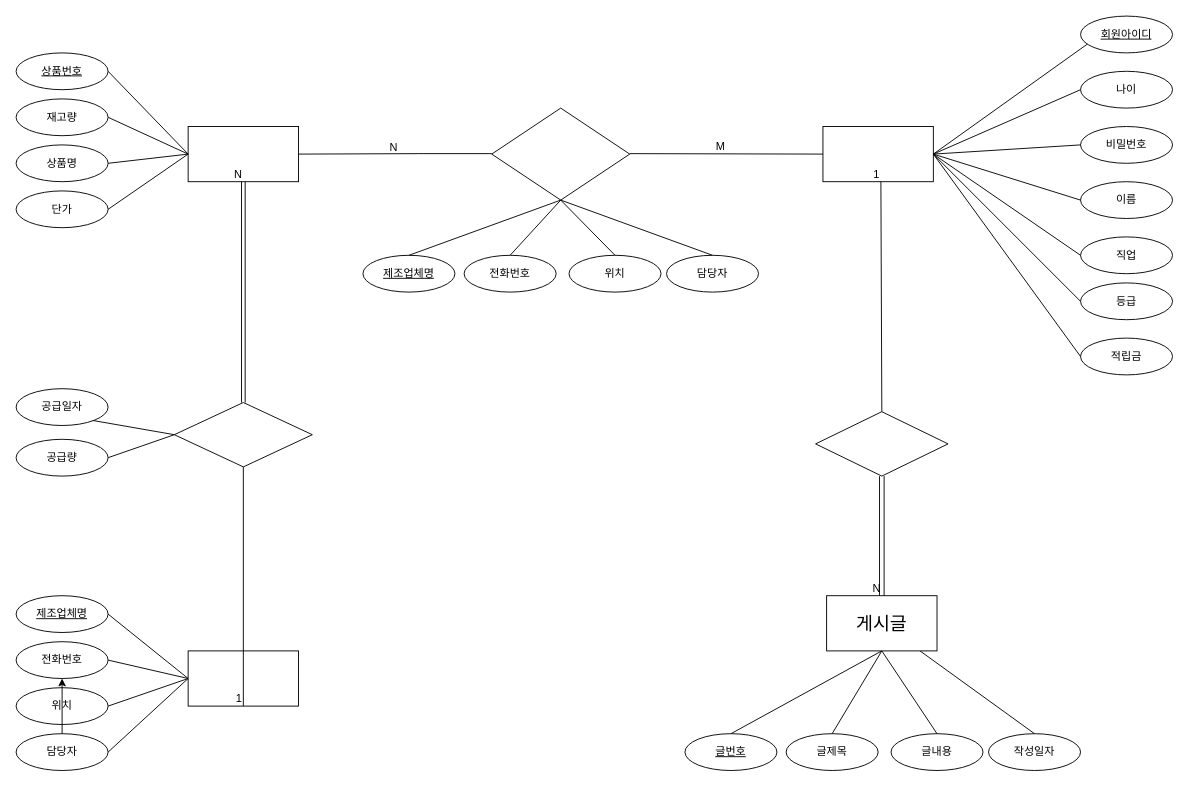
Image size: 1189x787. Some labels were removed from this diagram. The shapes that lost their labels are listed below. From the top down, each one's box as (x1, y1, x2, y2) in pixels, then its label:
(187, 126, 299, 182): 상품
(491, 107, 630, 200): 주문
(822, 126, 933, 182): 회원
(173, 402, 312, 467): 공급
(815, 411, 948, 476): 작성
(187, 650, 299, 706): 제조업체
